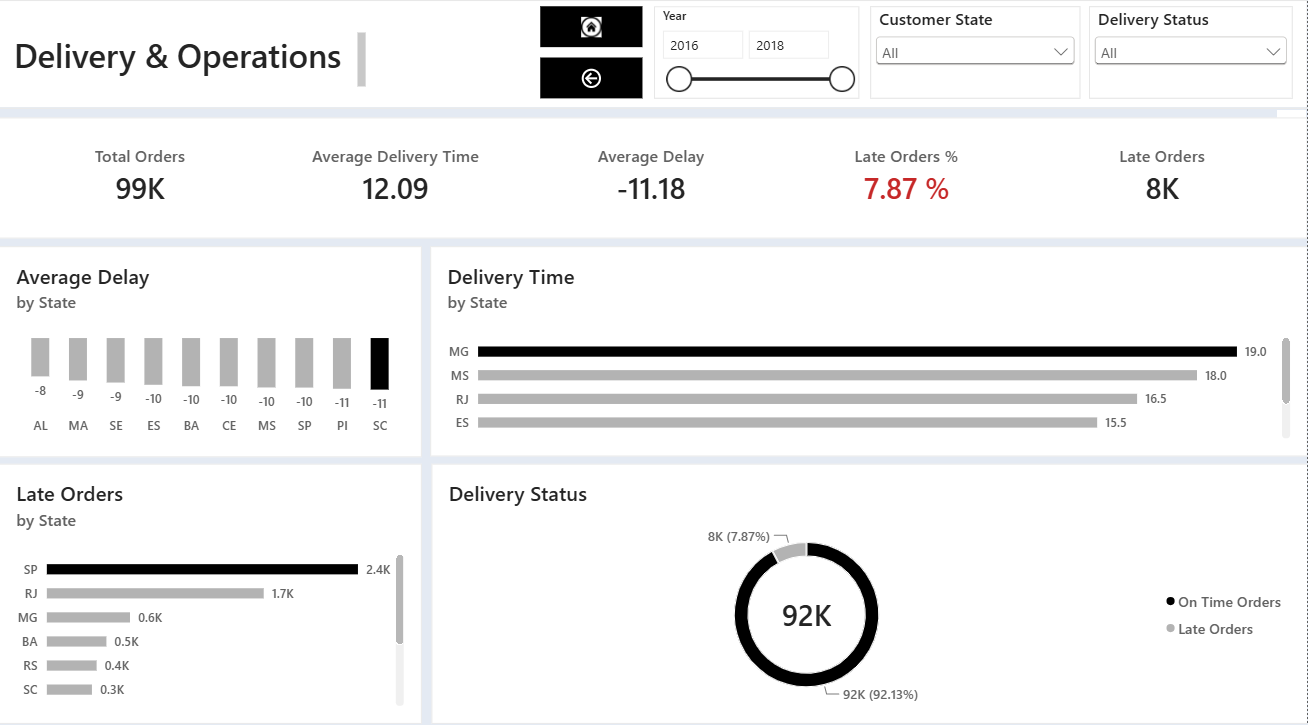

The page's visual inventory and layout, read from the dashboard file:
{"tool":"powerbi","page":{"name":"Page 4","canvas":[1280,720],"ordinal":3},"visuals":[{"type":"shape","box":[0,0,1280.3,106.4],"z":0},{"type":"cardVisual","fields":{"Data":["KPIS.Total Orders","KPIS.Average Delivery Time","KPIS.Average Delay","KPIS.Late Orders %","KPIS.Late Orders","KPIS.Total Orders"]},"box":[0,114.9,1280.3,118.6],"z":1000},{"type":"clusteredColumnChart","title":"Average Delay ","fields":{"Y":["KPIS.Average Delay"],"Category":["DimCustomer.customer_state"]},"box":[0,241.4,414,206.2],"z":2000},{"type":"clusteredBarChart","title":"Late Orders","fields":{"Category":["DimCustomer.customer_state"],"Y":["KPIS.Late Orders"]},"box":[0,453.7,413.3,254.3],"z":3000},{"type":"clusteredBarChart","title":"Delivery Time","fields":{"Y":["KPIS.Average Delivery Time"],"Category":["DimCustomer.customer_state"]},"box":[421.9,240.9,858.4,205.4],"z":4000},{"type":"slicer","fields":{"Values":["DimDate.Year"]},"box":[640.8,6.1,200.5,90.5],"z":5000},{"type":"slicer","fields":{"Values":["DimCustomer.customer_state"]},"box":[852.3,6.1,205.4,90.5],"z":6000},{"type":"slicer","title":"Category  Name","fields":{"Values":["FactOrders.delivery_status"]},"box":[1066.3,6.1,199.3,90.5],"z":7000},{"type":"textbox","box":[14.7,31.8,343.6,64.8],"z":8000},{"type":"donutChart","title":"Delivery Status ","fields":{"Y":["DimCustomer.On Time Orders","KPIS.Late Orders"]},"box":[423.1,453.7,857.2,254.3],"z":9000},{"type":"actionButton","box":[529.3,56.1,100,40],"z":10000},{"type":"actionButton","box":[529.3,6.5,100,40],"z":11000}]}

Visuals, with their boxes in screenshot pixels (x1, y1, x2, y2), scaled from the page's 1280x720 canvas onto the 1308x725 screenshot:
shape: <box>0,0,1307,107</box>
cardVisual - KPIS.Total Orders x KPIS.Average Delivery Time: <box>0,116,1307,235</box>
"Average Delay " clusteredColumnChart: <box>0,243,423,451</box>
"Late Orders" clusteredBarChart: <box>0,457,422,713</box>
"Delivery Time" clusteredBarChart: <box>431,243,1307,449</box>
slicer - DimDate.Year: <box>655,6,860,97</box>
slicer - DimCustomer.customer_state: <box>871,6,1081,97</box>
"Category  Name" slicer: <box>1090,6,1293,97</box>
textbox: <box>15,32,366,97</box>
"Delivery Status " donutChart: <box>432,457,1307,713</box>
actionButton: <box>541,56,643,97</box>
actionButton: <box>541,7,643,47</box>
